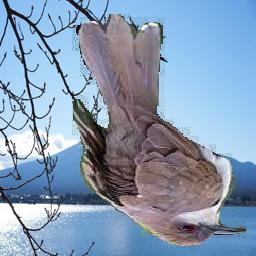Cuckoo: (70, 14, 246, 246)
